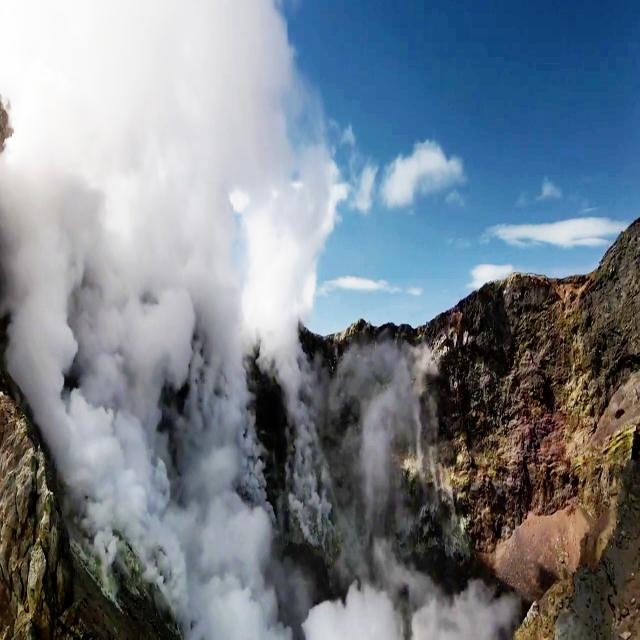asap: (1, 3, 298, 640), (53, 1, 200, 621), (3, 1, 128, 542), (234, 39, 343, 383), (185, 386, 285, 640), (334, 327, 425, 555), (301, 572, 406, 640)
